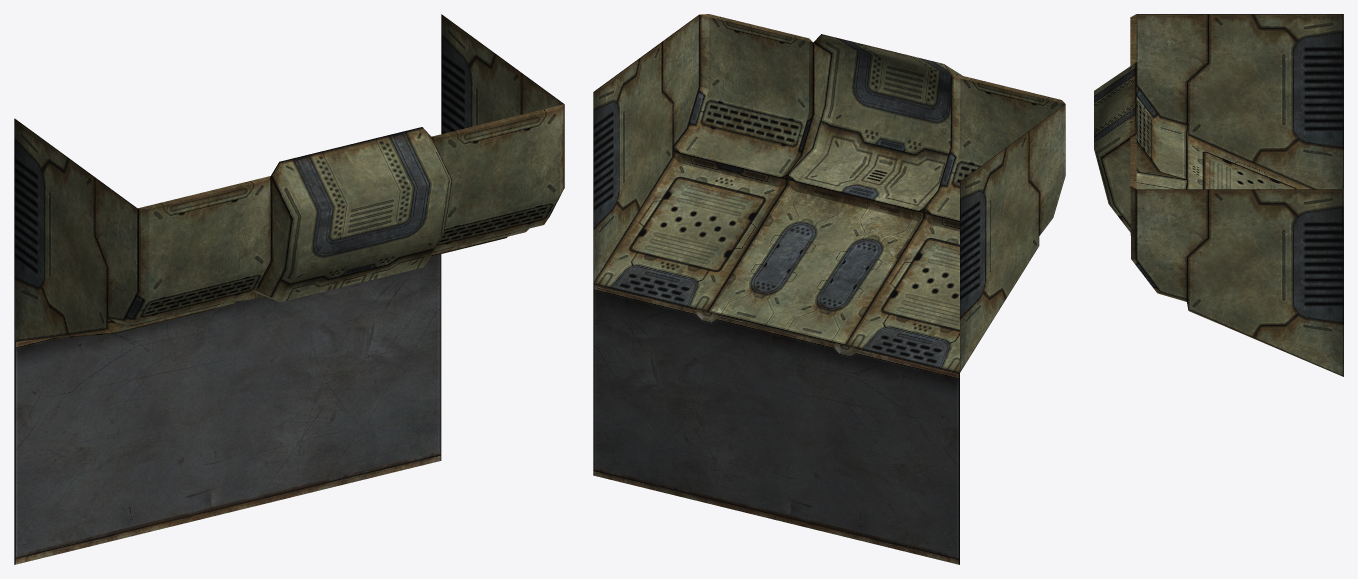
The model's file is datasite_concave_top01.dae.
3 renders of one model, left to right at view 1: azimuth 30°, elevation 25°; view 2: azimuth 150°, elevation 25°; view 3: azimuth 270°, elevation 25°, orthographic. The views are drawn at different scales.
Visible parts, largest first — view 1: polySurface99, polySurface98; view 2: polySurface98, polySurface99; view 3: polySurface98.
Boxes of the visible parts, bbox=[...] form: polySurface99: bbox=[14, 254, 441, 564]; polySurface98: bbox=[14, 14, 564, 341]; polySurface98: bbox=[593, 14, 1065, 372]; polySurface99: bbox=[593, 284, 959, 564]; polySurface98: bbox=[1094, 14, 1343, 376].
Bounding box in the file's own units: 4 × 4.11 × 2.41.
